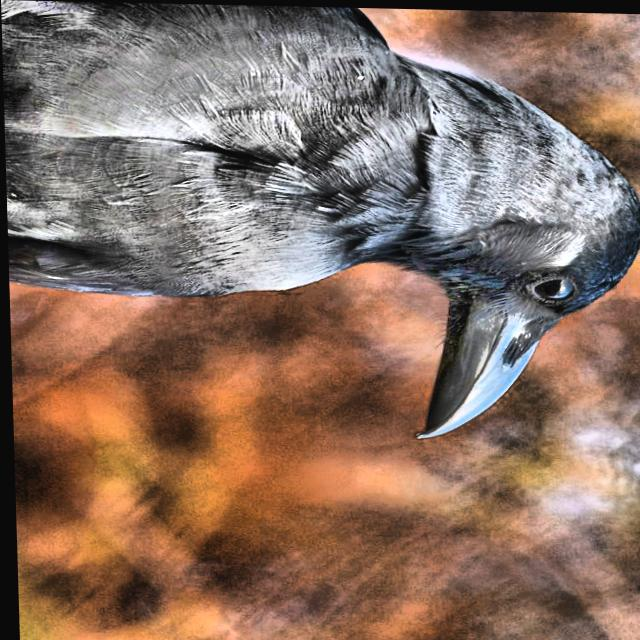crow: (0, 0, 640, 450)
